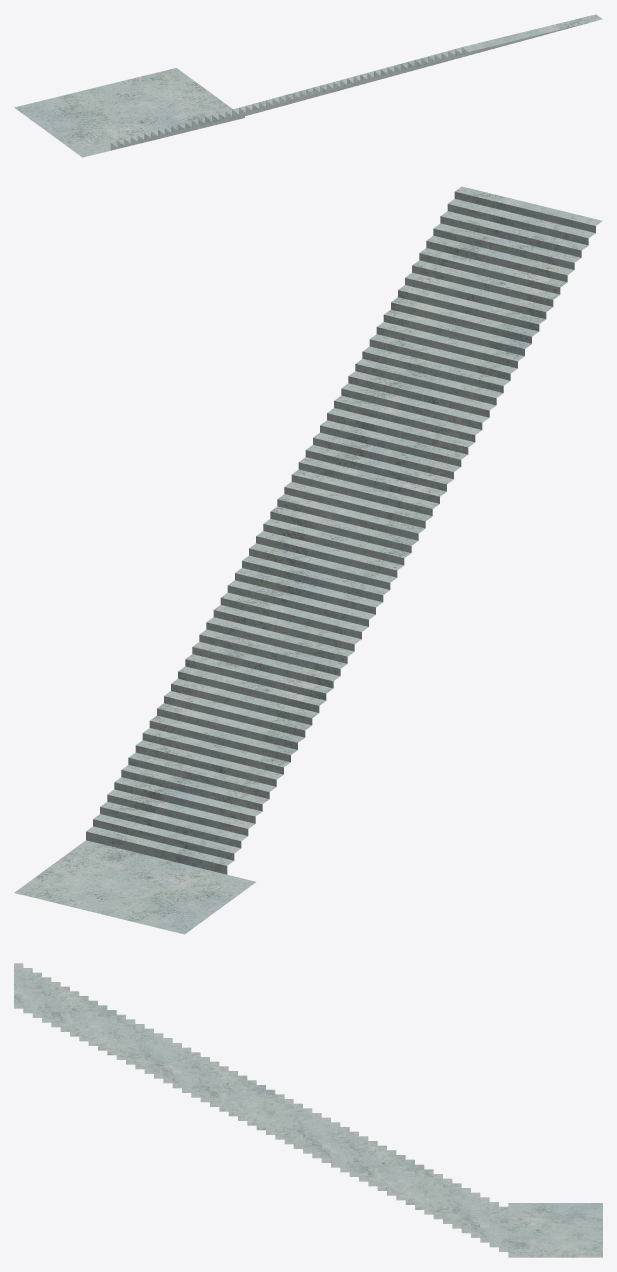
File: FinalMap_Stairs 1.FBX
The picture shows the model from 3 angles, top to bottom: view 1: azimuth 30°, elevation 25°; view 2: azimuth 150°, elevation 25°; view 3: azimuth 270°, elevation 25°; orthographic projection. The views are drawn at different scales.
Visible parts, largest first — view 1: Object078; view 2: Object078; view 3: Object078.
Part boxes in pixels (x1,y1,x2,y2): Object078: [14, 14, 602, 157]; Object078: [14, 186, 602, 934]; Object078: [14, 963, 602, 1257].
Bounding box in the file's own units: 222 × 471 × 1010.
